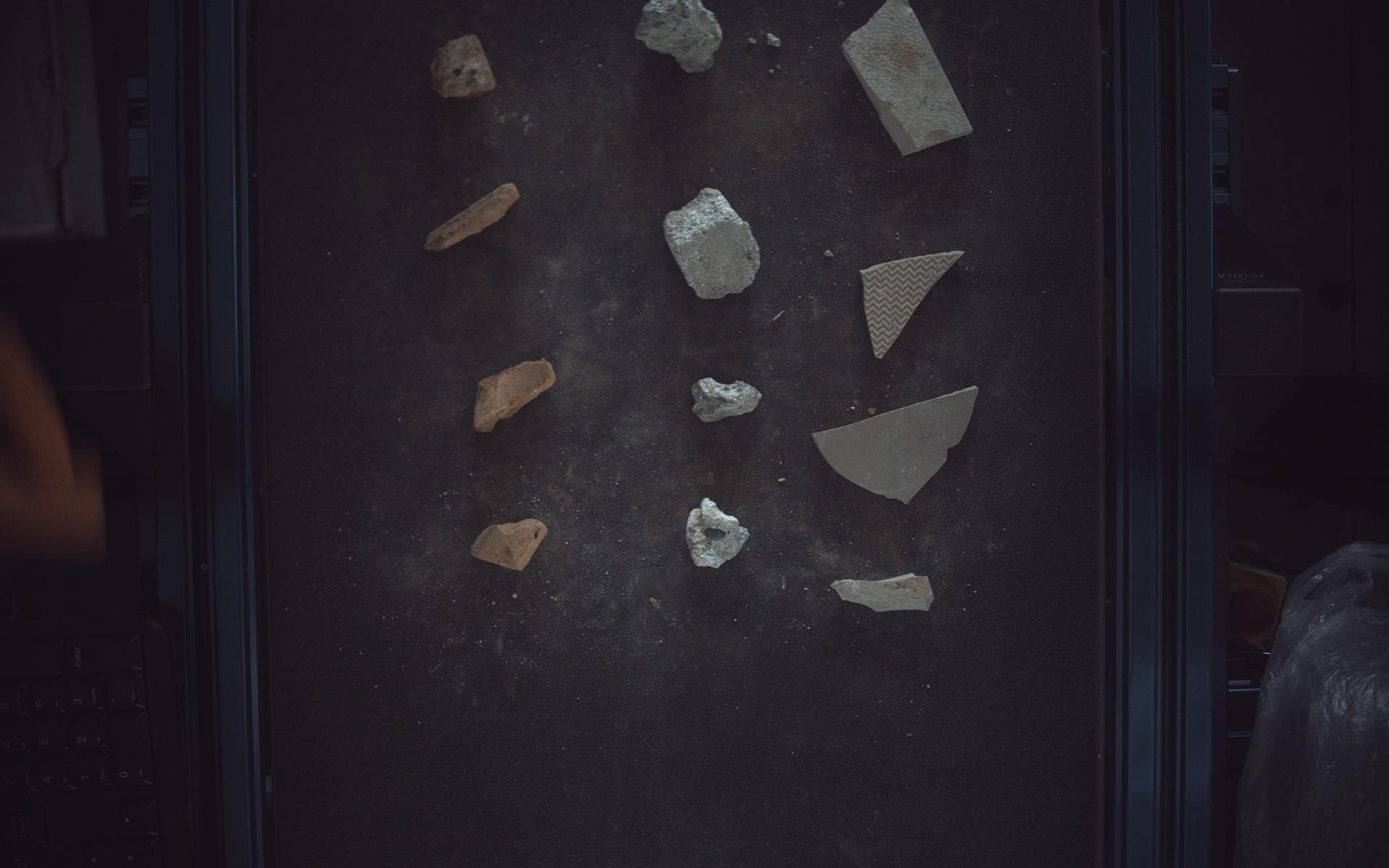brick: (423, 182, 519, 250), (474, 360, 556, 433), (430, 33, 496, 97), (471, 519, 548, 571)
concrete: (665, 187, 762, 299), (637, 1, 723, 72), (687, 498, 751, 569), (692, 378, 763, 422)
tile: (844, 1, 974, 154), (814, 386, 980, 503), (862, 250, 966, 358), (833, 574, 935, 613)
